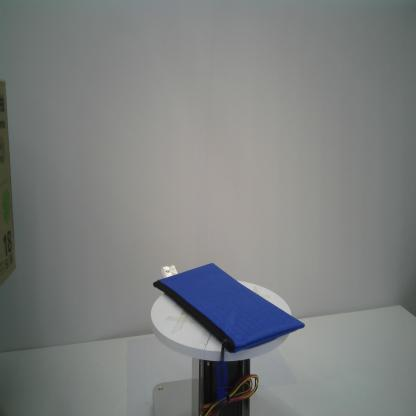Stationery: (152, 262, 306, 407)
